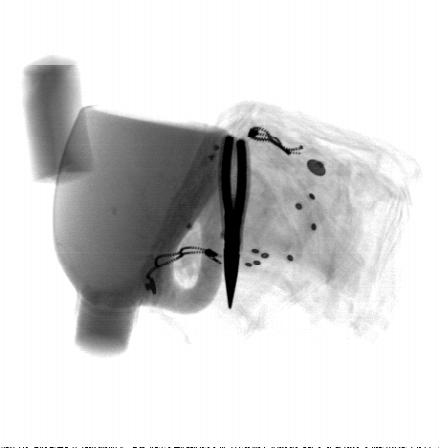Pliers: (216, 132, 252, 313)
